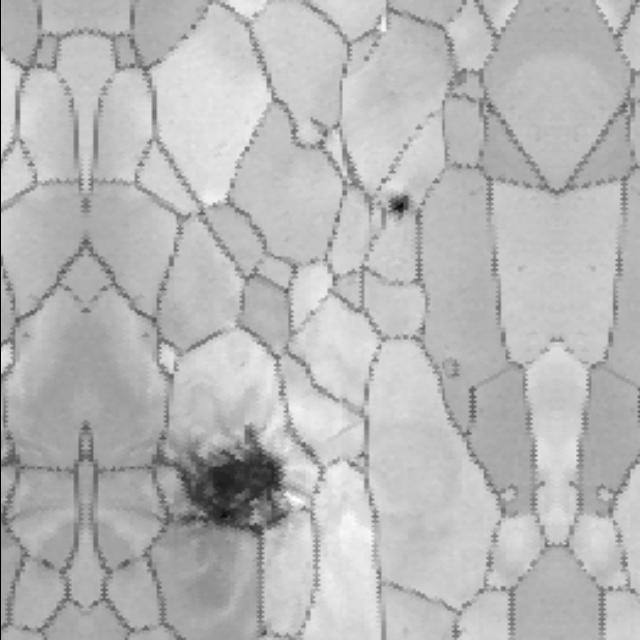good_void: (128, 403, 320, 549), (374, 179, 421, 226)
